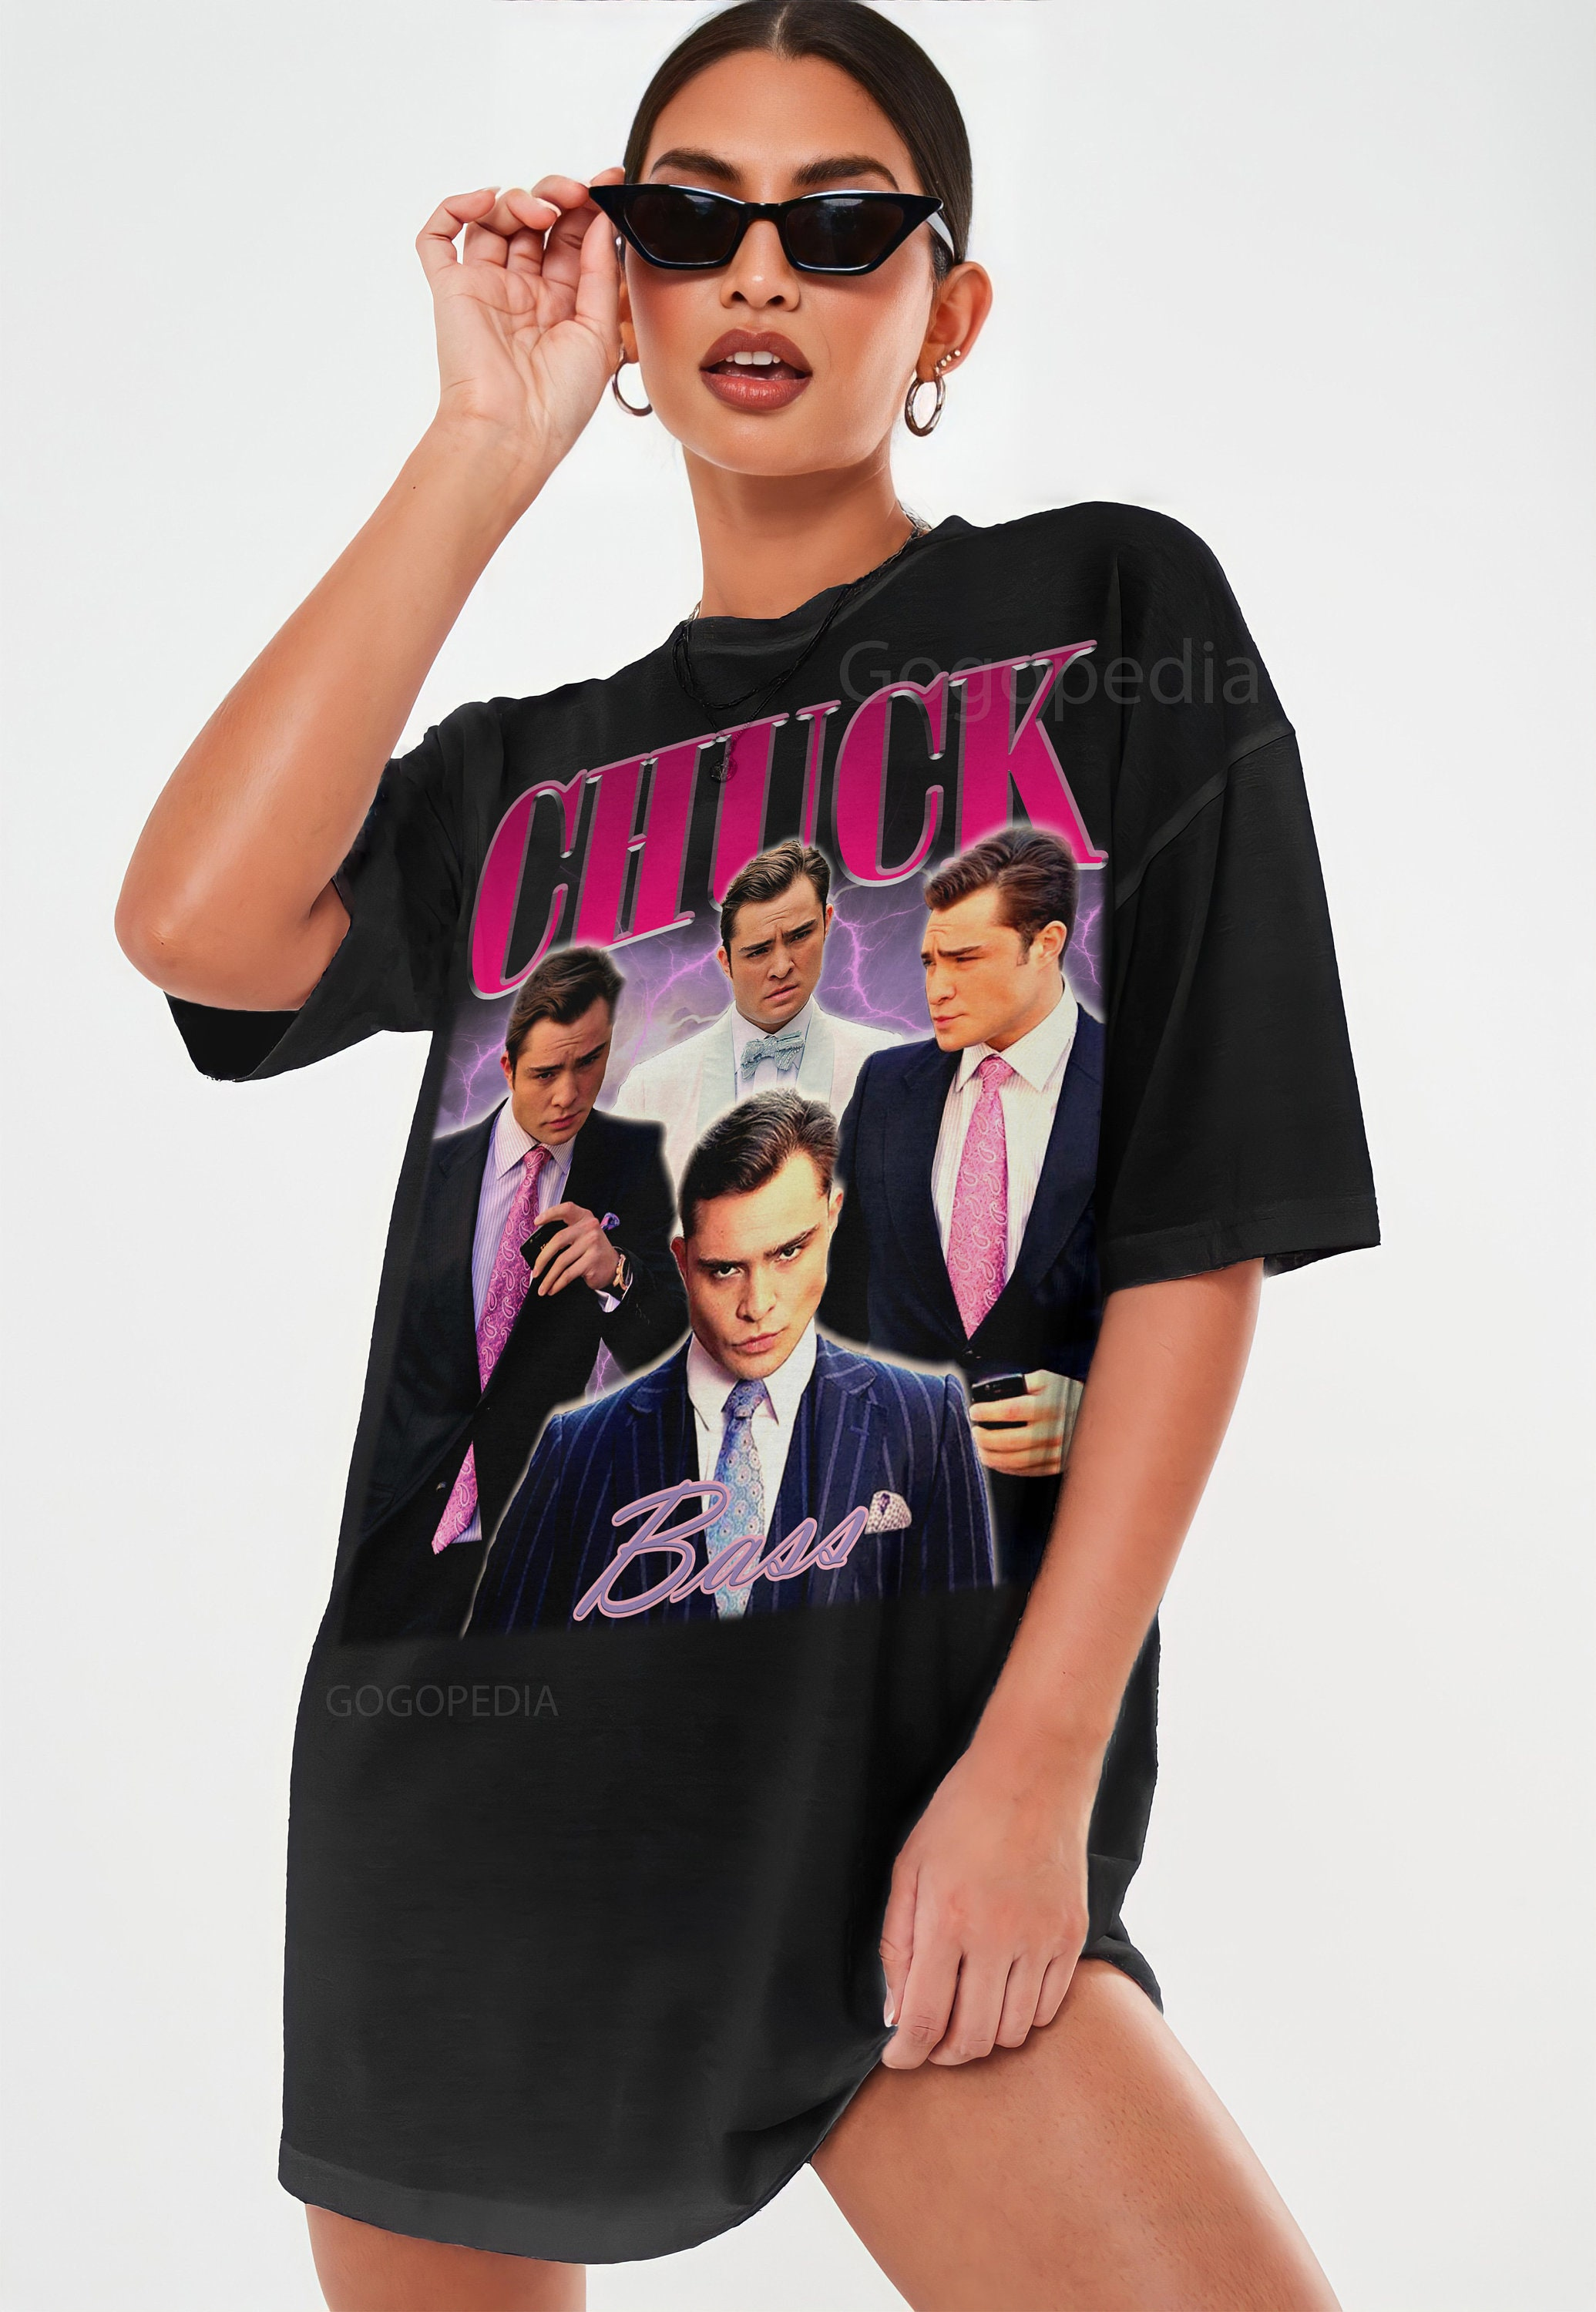design: (418, 625, 1120, 1639)
